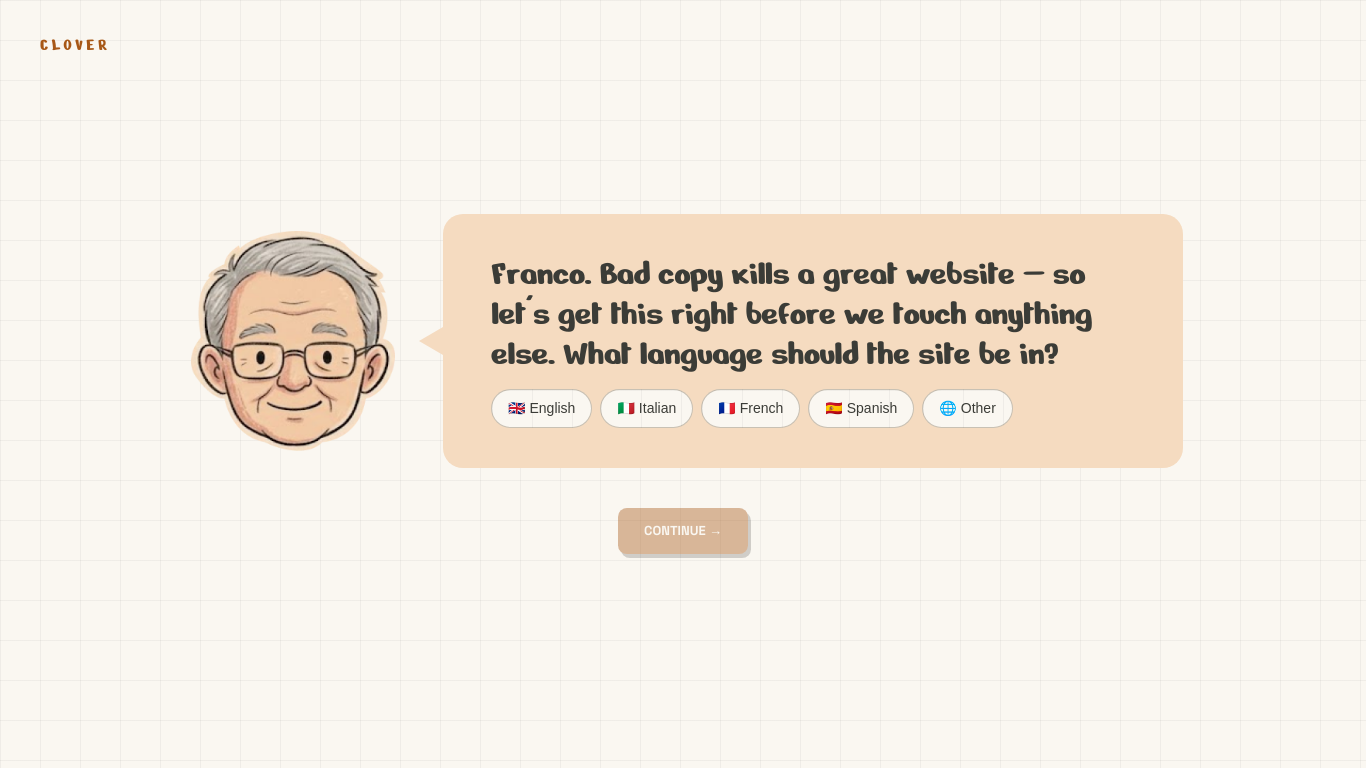
Test: services textarea appears after language selected
The width and height of the screenshot is (1366, 768).
Expected: the field with placeholder "Pizza Margherita" is not shown
Click the text "English" at [552, 409], box [530, 398, 575, 419]
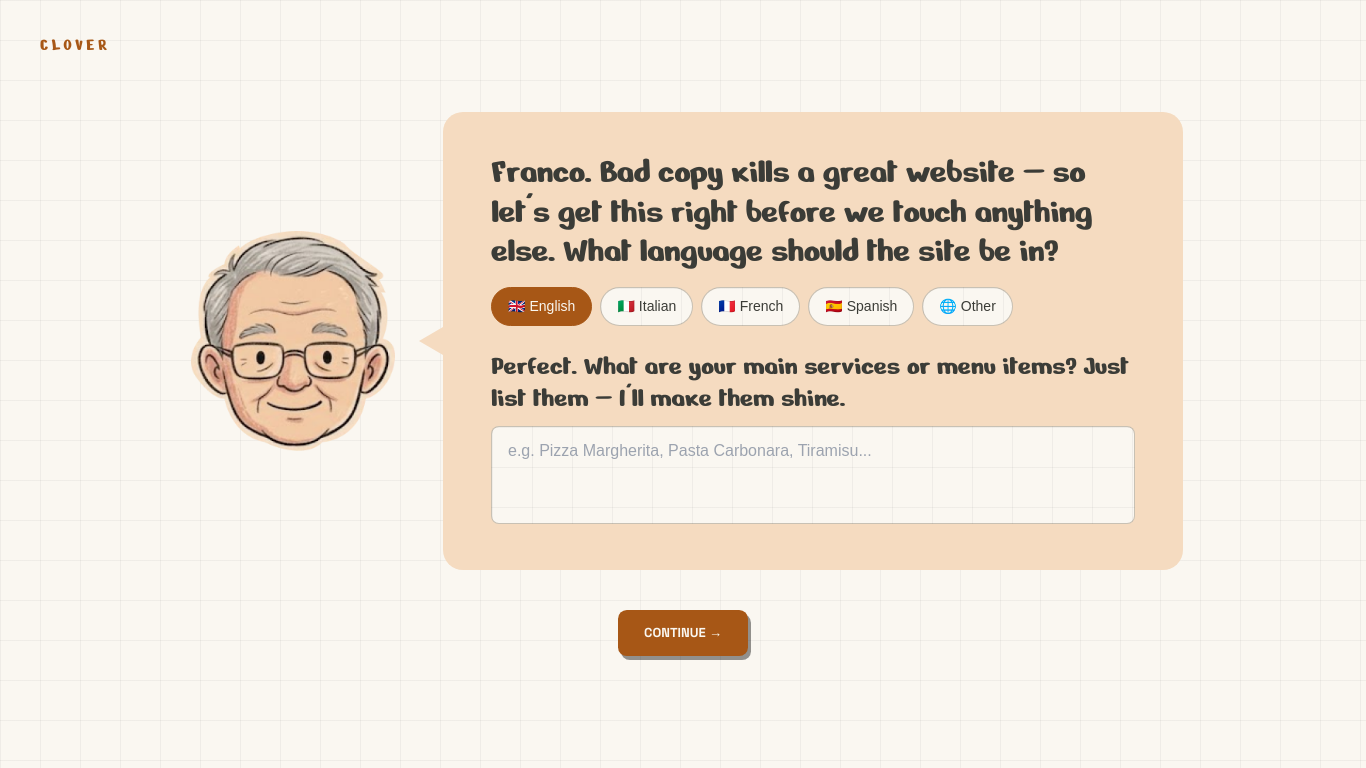
Result: the text box with placeholder "e.g. Pizza Margherita, Pasta Carbonara, Tiramisu..." is shown at [491, 426, 1135, 524]
